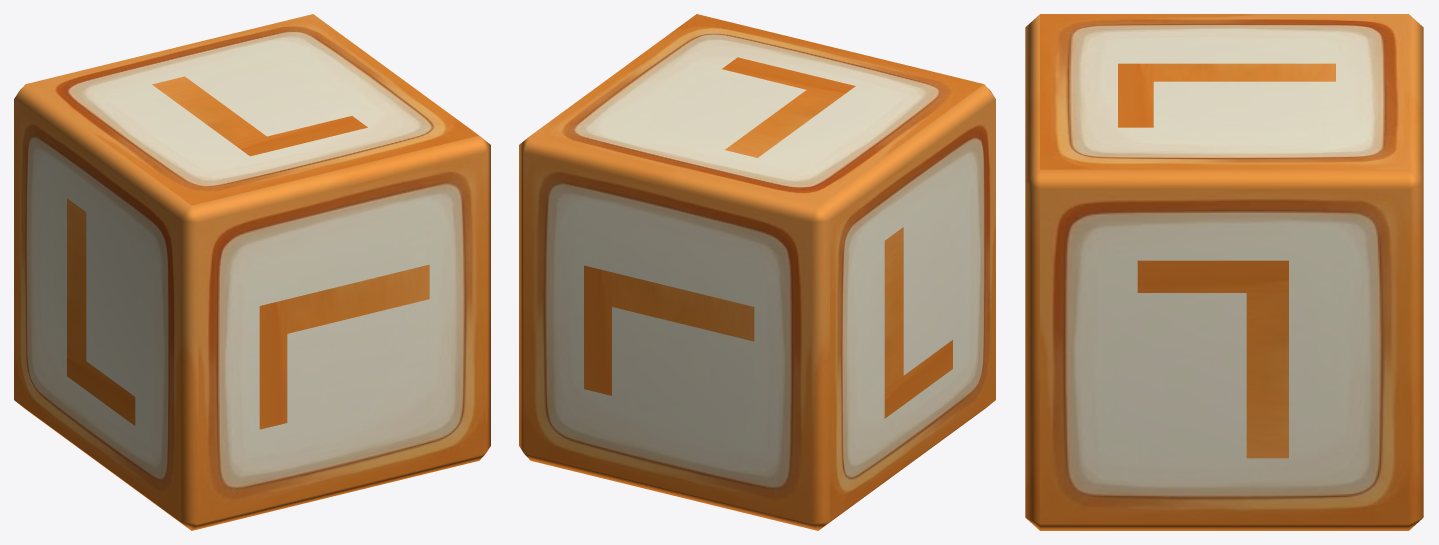
The model's file is CubeL.glb.
3 renders of one model, left to right at view 1: azimuth 30°, elevation 25°; view 2: azimuth 150°, elevation 25°; view 3: azimuth 270°, elevation 25°, orthographic. The views are drawn at different scales.
Visible parts, largest first — view 1: CubeL; view 2: CubeL; view 3: CubeL.
Part boxes in pixels (x1=…): CubeL: x1=14, y1=14, x2=490, y2=530; CubeL: x1=519, y1=14, x2=995, y2=530; CubeL: x1=1025, y1=14, x2=1423, y2=530.
Size of what is drawn, in the model's own units: 0.513 by 0.513 by 0.513.
1 material, 1 textured.
